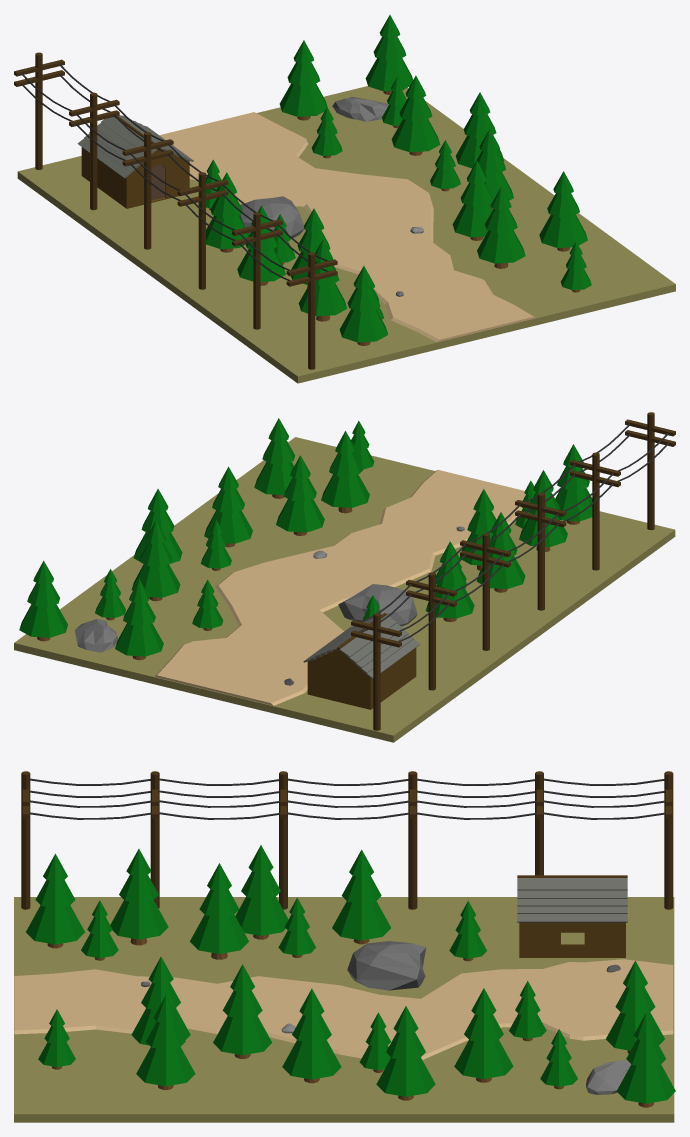
File: cenario.fbx
3 renders of one model, top to bottom at view 1: azimuth 30°, elevation 25°; view 2: azimuth 150°, elevation 25°; view 3: azimuth 270°, elevation 25°, orthographic. The views are drawn at different scales.
Parts seen in each view (by area): view 1: chao, caminho, casa, poste, poste.001, poste.002, telha, folha.003, folha.005, folha.016, folha.014, folha.009 (+14 smaller); view 2: chao, caminho, casa, poste.002, poste.001, poste, telha, folha.012, folha.003, folha.014, folha.015, folha.016 (+18 smaller); view 3: chao, caminho, telha, casa, pedra meio, folha.004, folha.002, folha.015, folha, folha.012, folha.009, folha.013 (+22 smaller).
Boxes of the visible parts, x1,y1,x2,y2 form: chao: [17, 86, 675, 383]; caminho: [159, 112, 536, 342]; casa: [81, 147, 189, 208]; poste: [232, 212, 337, 369]; poste.001: [122, 132, 228, 289]; poste.002: [14, 52, 119, 210]; telha: [77, 115, 193, 178]; folha.003: [477, 187, 525, 263]; folha.005: [339, 266, 388, 342]; folha.016: [391, 75, 440, 152]; folha.014: [279, 40, 327, 116]; folha.009: [539, 171, 587, 247]; chao: [14, 437, 675, 742]; caminho: [154, 470, 525, 705]; casa: [307, 648, 416, 709]; poste.002: [351, 572, 456, 730]; poste.001: [460, 492, 566, 650]; poste: [570, 412, 675, 570]; telha: [303, 614, 419, 679]; folha.012: [276, 455, 324, 532]; folha.003: [321, 431, 369, 507]; folha.014: [115, 579, 163, 656]; folha.015: [19, 560, 67, 637]; folha.016: [131, 521, 180, 597]; chao: [14, 897, 674, 1122]; caminho: [14, 959, 673, 1059]; telha: [517, 878, 627, 922]; casa: [519, 922, 625, 957]; pedra meio: [347, 941, 426, 990]; folha.004: [282, 988, 341, 1079]; folha.002: [190, 863, 248, 953]; folha.015: [616, 1013, 675, 1103]; folha: [110, 849, 168, 939]; folha.012: [213, 964, 272, 1055]; folha.009: [136, 995, 195, 1086]; folha.013: [376, 1006, 435, 1096].
Size of the model in its own units: 1720 by 520 by 2164.
